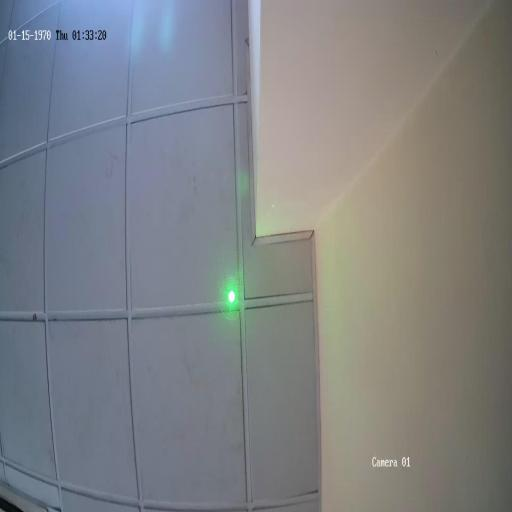laser: (226, 284, 236, 305)
